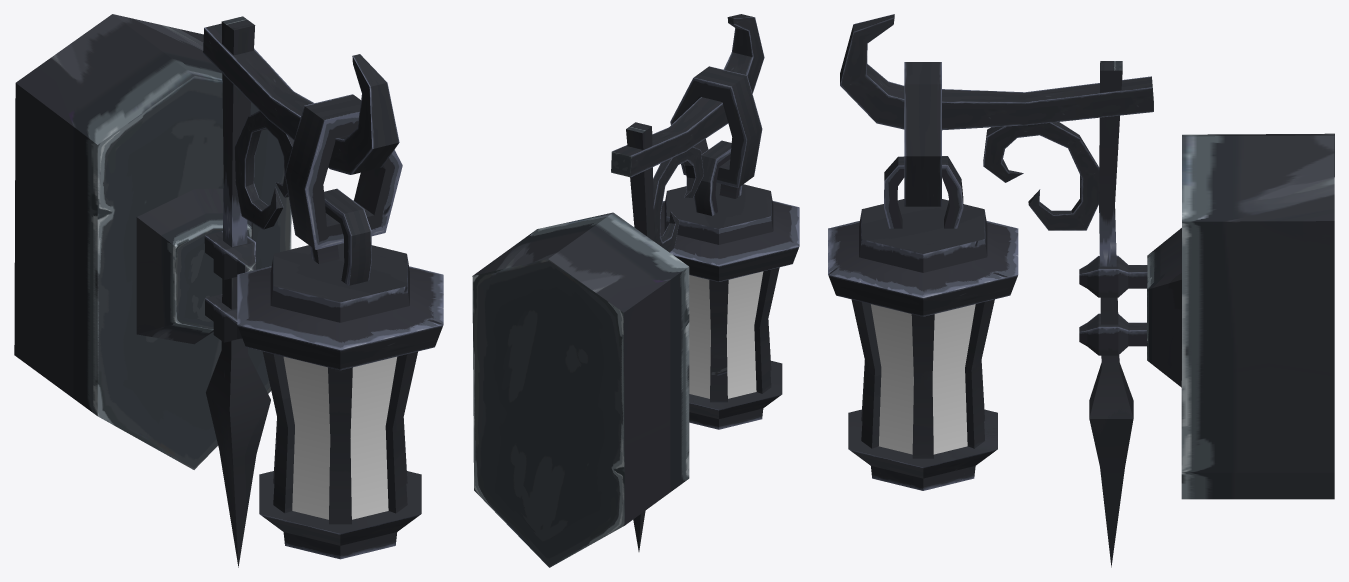
File: SM_PROP_lamp_wall_dungeon_01.fbx
3 renders of one model, left to right at view 1: azimuth 30°, elevation 25°; view 2: azimuth 150°, elevation 25°; view 3: azimuth 270°, elevation 25°, orthographic. The views are drawn at different scales.
Parts seen in each view (by area): view 1: SM_PROP_lamp_wall_dungeon_01; view 2: SM_PROP_lamp_wall_dungeon_01; view 3: SM_PROP_lamp_wall_dungeon_01.
Boxes of the visible parts, x1,y1,x2,y2 form: SM_PROP_lamp_wall_dungeon_01: (14, 14, 443, 567); SM_PROP_lamp_wall_dungeon_01: (472, 14, 799, 567); SM_PROP_lamp_wall_dungeon_01: (828, 14, 1334, 567).
Size of the model in its own units: 28.45 by 78.96 by 65.64.
